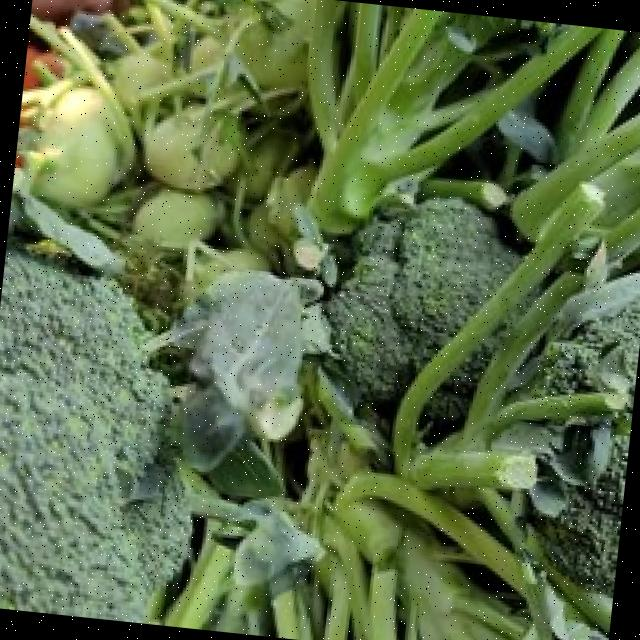Broccoli: (0, 250, 190, 622), (0, 250, 190, 622), (327, 198, 518, 402), (327, 198, 518, 402), (427, 340, 493, 420), (429, 340, 494, 420)
